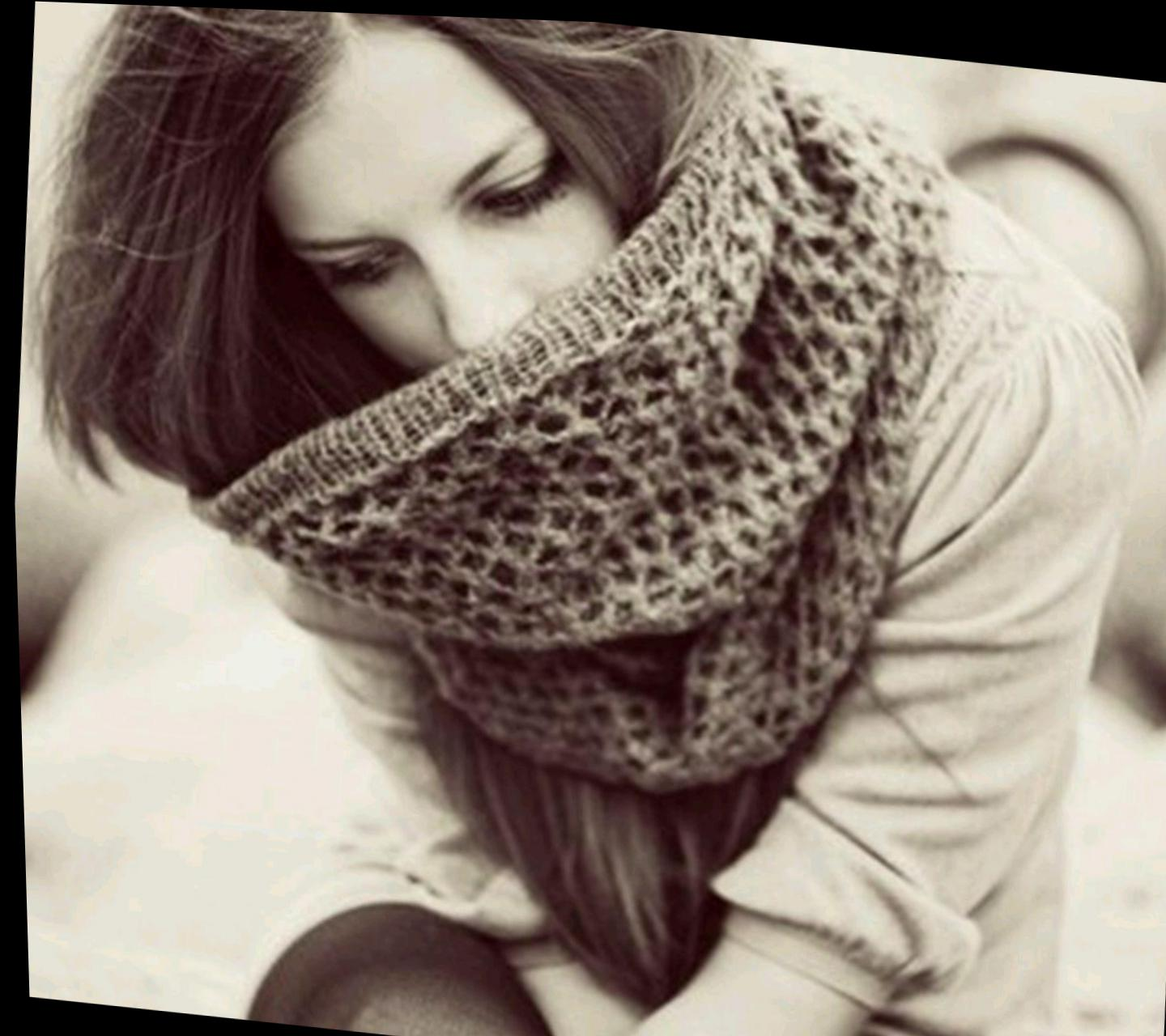WRONG: (262, 48, 692, 461)
